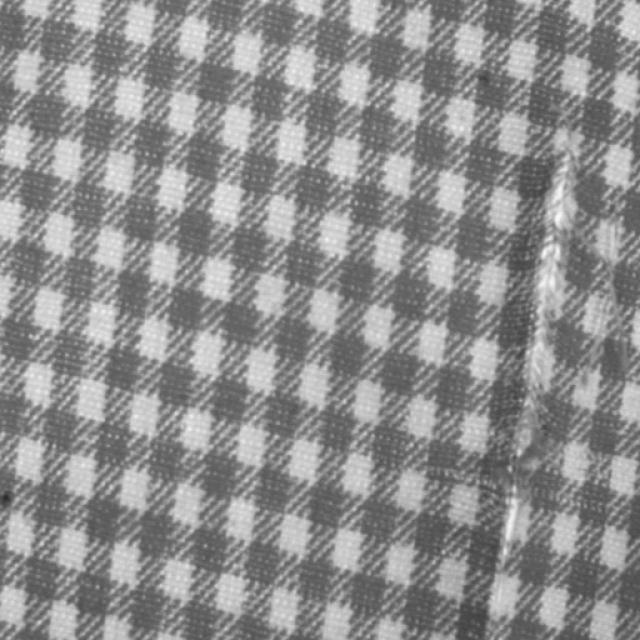Hole-Defect: (464, 141, 577, 638)
